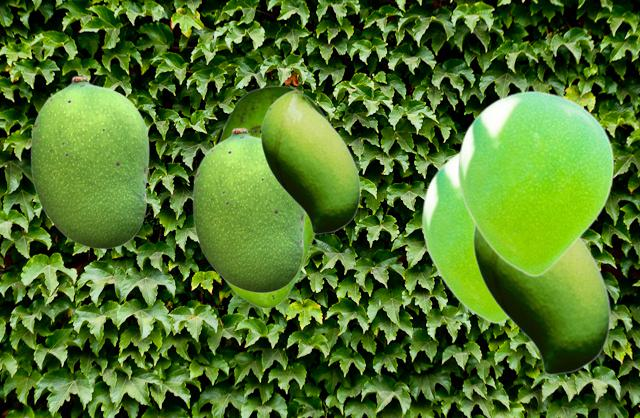green_mango: (458, 90, 613, 276), (218, 85, 326, 308), (30, 75, 148, 248), (472, 226, 609, 374), (192, 127, 305, 292), (422, 151, 509, 323), (260, 89, 359, 233)
